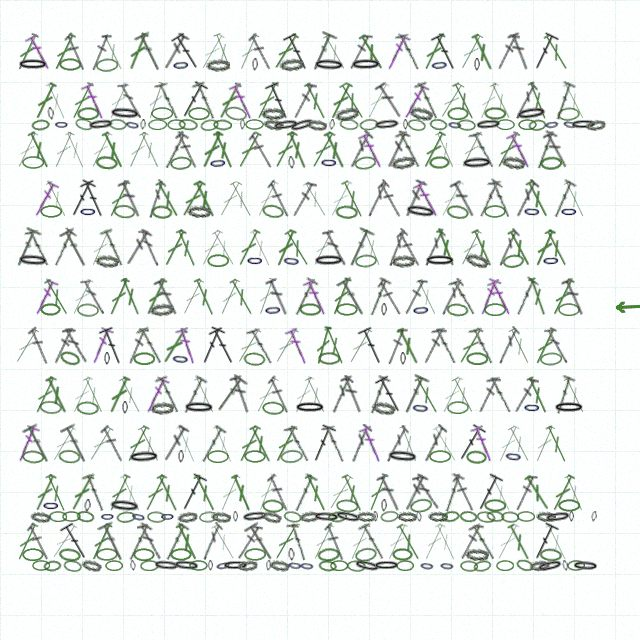chain: (515, 105, 548, 122), (404, 203, 437, 220), (108, 498, 141, 514), (288, 116, 317, 134), (386, 449, 419, 464), (464, 251, 490, 270), (109, 106, 141, 121), (17, 253, 49, 268), (334, 105, 360, 123), (58, 349, 82, 368), (313, 58, 345, 72), (461, 156, 493, 170), (128, 450, 160, 464), (334, 509, 362, 525), (353, 558, 381, 574), (536, 558, 564, 574), (408, 105, 434, 122), (390, 154, 416, 171), (17, 58, 49, 71), (350, 58, 382, 71), (313, 254, 345, 267), (424, 254, 456, 267), (183, 401, 215, 414), (294, 401, 326, 414), (553, 401, 585, 414), (224, 105, 248, 122), (261, 203, 285, 220), (409, 497, 433, 514), (354, 546, 378, 563), (371, 400, 396, 416), (272, 118, 300, 132), (544, 510, 572, 524), (279, 57, 304, 72), (501, 155, 526, 170), (149, 302, 174, 317), (354, 155, 377, 171), (446, 204, 469, 220), (502, 253, 525, 269), (58, 547, 81, 563), (87, 118, 115, 131), (373, 118, 401, 131), (241, 510, 269, 523), (475, 118, 502, 131), (153, 559, 180, 572), (173, 559, 200, 572), (95, 155, 118, 170), (113, 204, 136, 219), (39, 400, 62, 415), (58, 449, 81, 464), (280, 449, 303, 464), (317, 547, 340, 562), (206, 58, 230, 72), (95, 254, 119, 268), (391, 254, 415, 268), (150, 401, 174, 415), (313, 511, 340, 523), (572, 560, 599, 572), (557, 107, 580, 121), (335, 205, 358, 219), (446, 303, 469, 317), (243, 352, 266, 366), (76, 401, 99, 415), (539, 548, 562, 562), (81, 558, 102, 573), (261, 107, 285, 120), (187, 205, 211, 218), (465, 548, 489, 561), (96, 58, 118, 72), (170, 156, 192, 170), (540, 156, 562, 170), (151, 205, 173, 219), (355, 254, 377, 268), (77, 303, 99, 317), (540, 352, 562, 366), (262, 401, 284, 415), (22, 450, 44, 464), (262, 499, 284, 513), (336, 499, 358, 513), (74, 117, 94, 132), (515, 558, 535, 573), (570, 119, 597, 130), (222, 560, 249, 571), (373, 560, 400, 571), (585, 118, 606, 132), (466, 450, 487, 464), (177, 510, 198, 524), (261, 510, 282, 524), (59, 58, 81, 71), (77, 107, 99, 120), (151, 107, 173, 120), (188, 107, 210, 120), (447, 107, 469, 120), (484, 107, 506, 120), (22, 156, 44, 169), (40, 205, 62, 218), (484, 205, 506, 218), (207, 254, 229, 267), (299, 303, 321, 316), (336, 303, 358, 316), (484, 303, 506, 316), (558, 303, 580, 316), (133, 352, 155, 365), (318, 352, 340, 365), (466, 352, 488, 365), (447, 401, 469, 414), (207, 450, 229, 463), (244, 450, 266, 463), (429, 450, 451, 463), (484, 499, 506, 512), (558, 499, 580, 512), (22, 548, 44, 561), (96, 548, 118, 561), (133, 548, 155, 561), (170, 548, 192, 561), (244, 548, 266, 561), (504, 449, 523, 464), (476, 510, 496, 524), (263, 118, 284, 131), (429, 156, 450, 169), (40, 303, 61, 316), (299, 510, 320, 523), (392, 548, 413, 561), (237, 559, 258, 572), (269, 559, 290, 572), (529, 559, 550, 572), (430, 58, 449, 72), (200, 118, 219, 132), (407, 118, 426, 132), (282, 254, 301, 268), (171, 352, 190, 366), (411, 401, 430, 415), (283, 510, 302, 524), (63, 559, 82, 573), (473, 559, 492, 573), (178, 118, 198, 131), (339, 118, 359, 131), (359, 118, 379, 131), (172, 58, 190, 72), (209, 156, 227, 170), (264, 303, 282, 317), (412, 303, 430, 317), (30, 511, 51, 523), (108, 118, 127, 131), (429, 118, 448, 131), (76, 510, 95, 523), (380, 510, 399, 523), (441, 510, 460, 523), (459, 510, 478, 523), (486, 510, 505, 523), (307, 119, 327, 131), (116, 511, 136, 523), (211, 511, 231, 523), (124, 118, 141, 132), (130, 510, 147, 524), (320, 156, 338, 169), (79, 205, 97, 218), (523, 205, 541, 218), (560, 205, 578, 218), (246, 254, 264, 267), (542, 254, 560, 267), (523, 401, 541, 414), (42, 499, 60, 512), (31, 119, 50, 131), (213, 119, 232, 131), (457, 119, 476, 131), (528, 119, 547, 131), (147, 511, 166, 523), (199, 511, 218, 523), (328, 511, 347, 523), (43, 560, 62, 572), (318, 560, 337, 572), (347, 560, 366, 572), (356, 511, 376, 522), (397, 511, 417, 522), (428, 511, 448, 522), (536, 511, 556, 522), (501, 511, 519, 523), (460, 560, 478, 572), (148, 119, 167, 130), (167, 119, 186, 130), (245, 119, 264, 130), (496, 119, 515, 130), (518, 119, 537, 130), (62, 511, 81, 522), (140, 560, 159, 571), (189, 560, 208, 571), (544, 118, 560, 131), (562, 118, 578, 131), (215, 559, 231, 572), (287, 559, 303, 572), (49, 511, 67, 522), (517, 511, 535, 522), (32, 560, 50, 571), (105, 560, 123, 571), (330, 560, 348, 571), (396, 560, 414, 571), (496, 560, 514, 571), (567, 560, 585, 571), (447, 119, 463, 131), (299, 560, 315, 572), (419, 560, 435, 572), (439, 560, 455, 572), (54, 119, 69, 130), (100, 511, 115, 522), (160, 511, 175, 522), (47, 107, 55, 120), (288, 156, 295, 169), (84, 499, 91, 512), (288, 548, 295, 561), (252, 58, 258, 71), (474, 58, 480, 71), (381, 303, 387, 316), (104, 352, 110, 365), (400, 352, 406, 365), (122, 401, 128, 414), (178, 450, 184, 463), (381, 499, 387, 512), (562, 560, 569, 571), (140, 119, 146, 130), (329, 119, 335, 130), (416, 511, 422, 522), (591, 511, 597, 522), (130, 560, 136, 571), (240, 119, 245, 130), (403, 119, 408, 130), (233, 511, 238, 522), (373, 511, 378, 522), (569, 511, 574, 522), (208, 560, 213, 571), (266, 560, 271, 571)
double: (212, 374, 248, 415), (336, 276, 370, 318), (244, 521, 278, 563), (170, 31, 204, 72), (59, 227, 92, 269), (22, 423, 55, 465), (454, 423, 487, 464), (59, 521, 92, 562), (134, 31, 166, 73), (60, 423, 92, 465), (97, 521, 129, 563), (177, 80, 209, 121), (374, 374, 406, 415), (282, 31, 313, 73), (307, 31, 338, 73), (430, 31, 461, 73), (529, 31, 560, 73), (66, 178, 97, 220), (11, 227, 42, 269), (344, 227, 375, 269), (208, 325, 239, 367), (399, 374, 430, 416), (177, 472, 208, 514), (473, 472, 504, 514), (529, 521, 560, 563), (264, 80, 294, 122), (79, 178, 109, 220), (357, 325, 387, 367), (374, 81, 406, 120), (48, 522, 80, 561), (356, 32, 387, 72), (541, 32, 572, 72), (337, 81, 368, 121), (436, 81, 467, 121), (159, 130, 190, 170), (300, 179, 331, 219), (122, 228, 153, 268), (282, 228, 313, 268), (448, 277, 479, 317), (11, 326, 42, 366), (159, 326, 190, 366), (233, 326, 264, 366), (455, 326, 486, 366), (48, 424, 79, 464), (85, 424, 116, 464), (196, 424, 227, 464), (430, 424, 461, 464), (467, 522, 498, 562), (468, 129, 498, 170), (474, 178, 504, 219), (289, 276, 319, 317), (135, 325, 165, 366), (178, 374, 208, 415), (283, 423, 313, 464), (123, 521, 153, 562), (160, 521, 190, 562), (357, 521, 387, 562), (98, 325, 127, 367), (197, 325, 226, 367), (308, 423, 337, 465), (270, 32, 301, 71), (325, 473, 356, 512), (522, 473, 553, 512), (24, 32, 54, 72), (160, 32, 190, 72), (197, 32, 227, 72), (320, 32, 350, 72), (456, 32, 486, 72), (400, 81, 430, 121), (234, 130, 264, 170), (308, 130, 338, 170), (542, 130, 572, 170), (30, 179, 60, 219), (153, 179, 183, 219), (178, 179, 208, 219), (215, 179, 245, 219), (412, 179, 442, 219), (449, 179, 479, 219), (209, 228, 239, 268), (42, 277, 72, 317), (227, 277, 257, 317), (246, 326, 276, 366), (271, 326, 301, 366), (345, 326, 375, 366), (412, 375, 442, 415), (160, 424, 190, 464), (67, 473, 97, 513), (209, 522, 239, 562), (271, 522, 301, 562), (394, 522, 424, 562), (394, 129, 423, 170), (548, 178, 577, 219), (24, 227, 53, 268), (49, 227, 78, 268), (511, 276, 540, 317), (431, 325, 460, 366), (468, 325, 497, 366), (486, 374, 515, 415), (289, 472, 318, 513), (215, 81, 244, 121), (301, 81, 330, 121), (326, 81, 355, 121), (363, 81, 392, 121), (560, 81, 589, 121), (271, 130, 300, 170), (357, 130, 386, 170), (419, 130, 448, 170), (493, 130, 522, 170), (505, 130, 534, 170), (227, 179, 256, 219), (326, 179, 355, 219), (437, 179, 466, 219), (523, 179, 552, 219), (160, 228, 189, 268), (197, 228, 226, 268), (234, 228, 263, 268), (456, 228, 485, 268), (505, 228, 534, 268), (542, 228, 571, 268), (153, 277, 182, 317), (178, 277, 207, 317), (486, 277, 515, 317), (548, 277, 577, 317), (394, 326, 423, 366), (116, 375, 145, 415), (252, 375, 281, 415), (449, 375, 478, 415), (123, 424, 152, 464), (135, 424, 164, 464), (271, 424, 300, 464), (505, 424, 534, 464), (141, 473, 170, 513), (548, 473, 577, 513), (493, 522, 522, 562), (505, 522, 534, 562), (395, 31, 423, 72), (154, 80, 182, 121), (413, 80, 441, 121), (364, 276, 392, 317), (154, 374, 182, 415), (345, 130, 374, 169), (511, 179, 540, 218), (419, 424, 448, 463), (412, 473, 441, 512), (13, 32, 41, 72), (50, 32, 78, 72), (99, 32, 127, 72), (383, 32, 411, 72), (420, 32, 448, 72), (469, 32, 497, 72), (31, 81, 59, 121), (68, 81, 96, 121), (80, 81, 108, 121), (228, 81, 256, 121), (253, 81, 281, 121), (450, 81, 478, 121), (487, 81, 515, 121), (13, 130, 41, 170), (25, 130, 53, 170), (87, 130, 115, 170), (99, 130, 127, 170), (124, 130, 152, 170), (136, 130, 164, 170), (198, 130, 226, 170), (321, 130, 349, 170), (383, 130, 411, 170), (457, 130, 485, 170), (43, 179, 71, 219), (105, 179, 133, 219), (117, 179, 145, 219), (191, 179, 219, 219), (253, 179, 281, 219), (339, 179, 367, 219), (561, 179, 589, 219), (247, 228, 275, 268), (309, 228, 337, 268), (31, 277, 59, 317), (68, 277, 96, 317), (142, 277, 170, 317), (302, 277, 330, 317), (413, 277, 441, 317), (506, 326, 534, 366), (531, 326, 559, 366), (31, 375, 59, 415), (43, 375, 71, 415), (68, 375, 96, 415), (80, 375, 108, 415), (105, 375, 133, 415), (142, 375, 170, 415), (191, 375, 219, 415), (302, 375, 330, 415), (438, 375, 466, 415), (561, 375, 589, 415), (235, 424, 263, 464), (247, 424, 275, 464), (494, 424, 522, 464), (543, 424, 571, 464), (31, 473, 59, 513), (105, 473, 133, 513), (117, 473, 145, 513), (154, 473, 182, 513), (191, 473, 219, 513), (302, 473, 330, 513), (376, 473, 404, 513), (401, 473, 429, 513), (487, 473, 515, 513), (13, 522, 41, 562), (87, 522, 115, 562), (173, 522, 201, 562), (309, 522, 337, 562), (383, 522, 411, 562), (420, 522, 448, 562), (432, 522, 460, 562), (543, 522, 571, 562), (191, 80, 218, 121), (531, 129, 558, 170), (487, 178, 514, 219), (99, 227, 126, 268), (364, 374, 391, 415), (321, 423, 348, 464), (235, 32, 262, 72), (43, 81, 70, 121), (105, 81, 132, 121), (475, 81, 502, 121), (50, 130, 77, 170), (62, 130, 89, 170), (210, 130, 237, 170), (284, 130, 311, 170), (432, 130, 459, 170), (401, 179, 428, 219), (87, 228, 114, 268), (173, 228, 200, 268), (272, 228, 299, 268), (469, 228, 496, 268), (531, 228, 558, 268), (105, 277, 132, 317), (191, 277, 218, 317), (216, 277, 243, 317), (265, 277, 292, 317), (561, 277, 588, 317), (284, 326, 311, 366), (290, 375, 317, 415), (524, 375, 551, 415), (173, 424, 200, 464), (210, 424, 237, 464), (358, 424, 385, 464), (531, 424, 558, 464), (43, 473, 70, 513), (216, 473, 243, 513), (228, 473, 255, 513), (339, 473, 366, 513), (561, 473, 588, 513), (346, 522, 373, 562), (125, 31, 151, 72), (507, 31, 533, 72), (525, 80, 551, 121), (550, 80, 576, 121), (359, 227, 385, 268), (433, 227, 459, 268), (118, 276, 144, 317), (328, 276, 354, 317), (476, 276, 502, 317), (88, 325, 114, 366), (322, 325, 348, 366), (340, 374, 366, 415), (550, 374, 576, 415), (14, 423, 40, 464), (396, 423, 422, 464), (470, 423, 496, 464), (81, 472, 107, 513), (254, 472, 280, 513), (365, 472, 391, 513), (439, 472, 465, 513), (247, 131, 275, 169), (376, 180, 404, 218), (395, 229, 423, 267), (376, 278, 404, 316), (235, 523, 263, 561), (247, 32, 274, 71), (117, 81, 144, 120), (364, 179, 391, 218), (80, 277, 107, 316), (62, 326, 89, 365), (327, 375, 354, 414), (99, 424, 126, 463), (346, 424, 373, 463), (25, 522, 52, 561), (322, 228, 348, 268), (137, 522, 163, 562), (512, 82, 539, 120), (290, 180, 317, 218), (438, 278, 465, 316), (512, 376, 539, 414), (383, 425, 410, 463), (211, 31, 236, 72), (254, 276, 279, 317), (229, 374, 254, 415), (347, 32, 373, 71), (291, 81, 317, 120), (174, 130, 200, 169), (266, 179, 292, 218), (421, 228, 447, 267), (495, 228, 521, 267), (402, 277, 428, 316), (421, 326, 447, 365), (495, 326, 521, 365), (544, 326, 570, 365), (266, 375, 292, 414), (451, 473, 477, 512), (458, 522, 484, 561), (144, 80, 168, 121), (526, 276, 550, 317), (175, 325, 199, 366), (286, 521, 310, 562), (63, 32, 88, 71), (495, 32, 520, 71), (51, 326, 76, 365), (476, 375, 501, 414), (266, 473, 291, 512), (513, 473, 538, 512), (199, 522, 224, 561), (385, 228, 409, 267), (27, 326, 51, 365), (323, 522, 347, 561), (89, 32, 112, 72), (385, 326, 408, 366), (312, 325, 334, 366), (138, 228, 161, 267), (126, 326, 149, 365), (145, 179, 167, 219)
noise: (613, 301, 640, 313)
